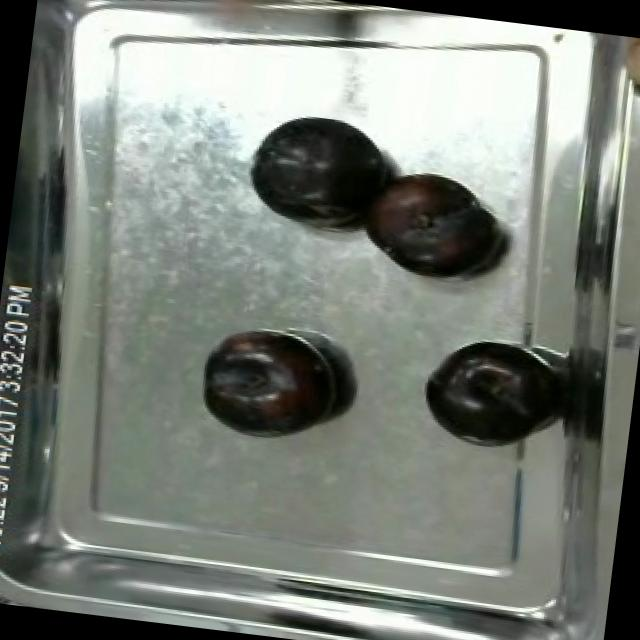Fruit: (235, 102, 402, 236), (351, 160, 510, 289), (189, 322, 350, 449), (414, 329, 562, 455)
